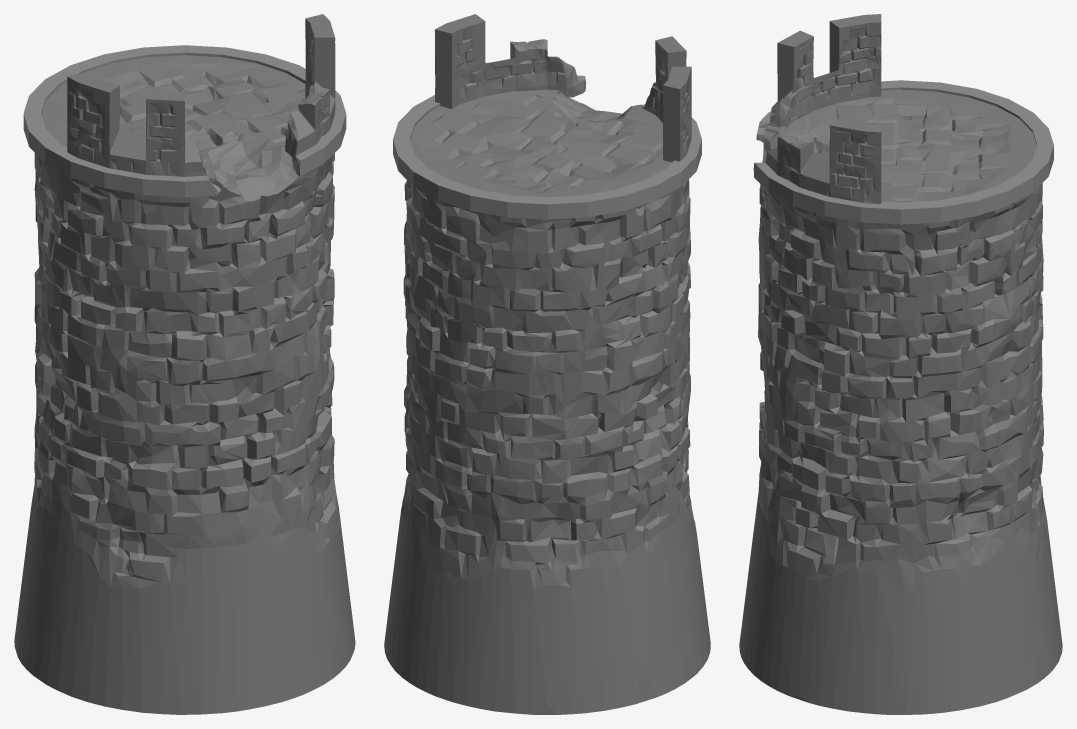
The model's file is castle_round_tower_c_destroyed.FBX.
The picture shows the model from 3 angles, left to right: view 1: azimuth 30°, elevation 25°; view 2: azimuth 150°, elevation 25°; view 3: azimuth 270°, elevation 25°; orthographic projection. The views are drawn at different scales.
Parts seen in each view (by area): view 1: castle_round_tower_c_destroyed; view 2: castle_round_tower_c_destroyed; view 3: castle_round_tower_c_destroyed.
Boxes of the visible parts, x1,y1,x2,y2 form: castle_round_tower_c_destroyed: [14, 14, 355, 714]; castle_round_tower_c_destroyed: [384, 14, 710, 714]; castle_round_tower_c_destroyed: [739, 14, 1062, 714].
Bounding box in the file's own units: 5.86 × 11.48 × 5.87.
